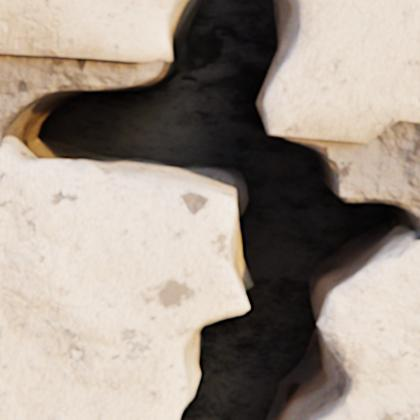broken_brick: (0, 147, 248, 419), (264, 0, 419, 142), (317, 240, 419, 419), (0, 0, 179, 62)
crack: (1, 0, 419, 419)
